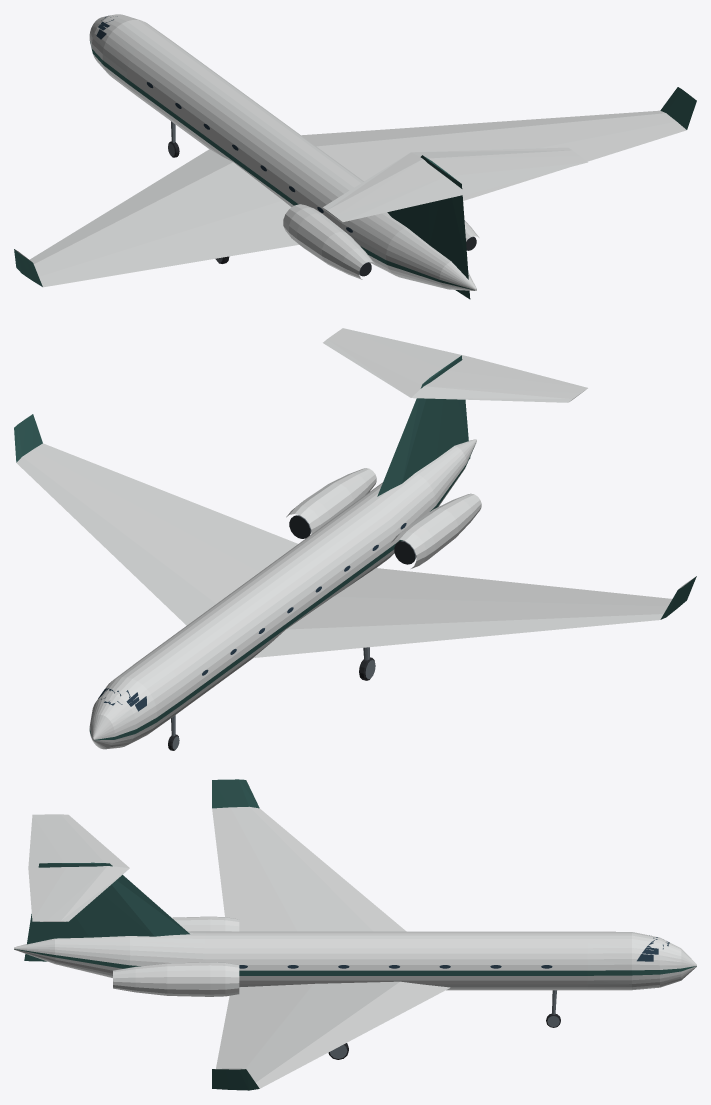
3 renders of one model, top to bottom at view 1: azimuth 30°, elevation 25°; view 2: azimuth 150°, elevation 25°; view 3: azimuth 270°, elevation 25°, orthographic. The views are drawn at different scales.
Visible parts, largest first — view 1: airframe; view 2: airframe, gear; view 3: airframe, gear.
Boxes of the visible parts, x1=… form: airframe: x1=14, y1=14, x2=696, y2=299; airframe: x1=14, y1=328, x2=696, y2=749; gear: x1=168, y1=647, x2=375, y2=750; airframe: x1=14, y1=779, x2=696, y2=1090; gear: x1=328, y1=990, x2=560, y2=1059.
Bounding box in the file's own units: 30.41 × 8.05 × 30.36.
